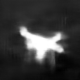plane: (17, 23, 67, 68)
